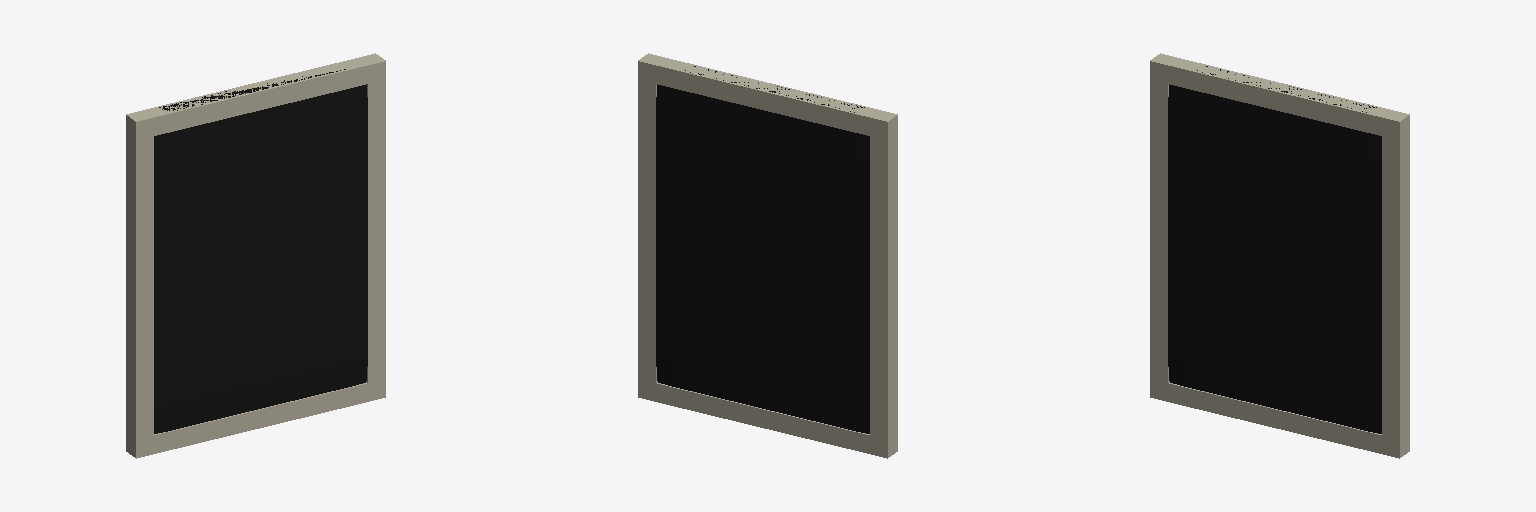
File: ProfileDisplay.obj
3 views of the same model, side by side, from view 1: azimuth 30°, elevation 25°; view 2: azimuth 150°, elevation 25°; view 3: azimuth 330°, elevation 25° (orthographic).
Parts seen in each view (by area): view 1: mergedBlocks; view 2: mergedBlocks; view 3: mergedBlocks.
Boxes of the visible parts, box(x1,y1,x2,y2) form: mergedBlocks: box(126, 53, 385, 458); mergedBlocks: box(638, 53, 897, 458); mergedBlocks: box(1150, 53, 1409, 458).
Bounding box in the file's own units: 1.4 × 1.8 × 0.1.